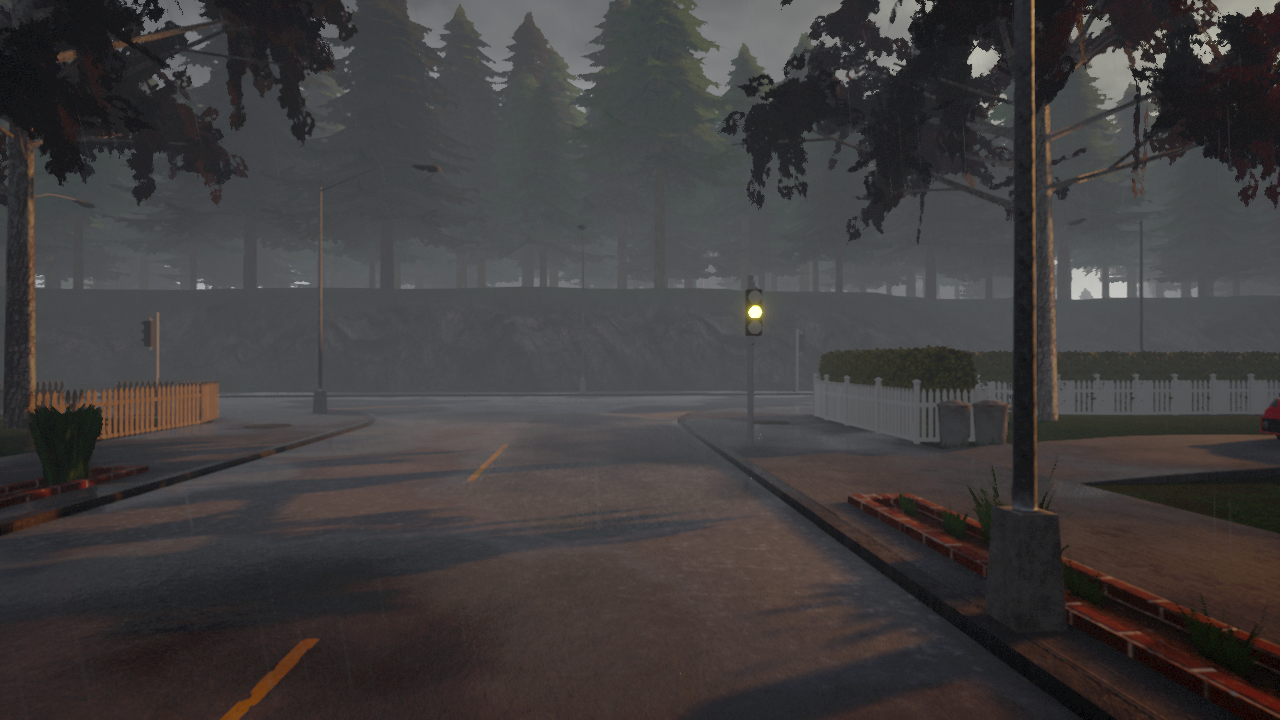yellow: (742, 287, 764, 338)
